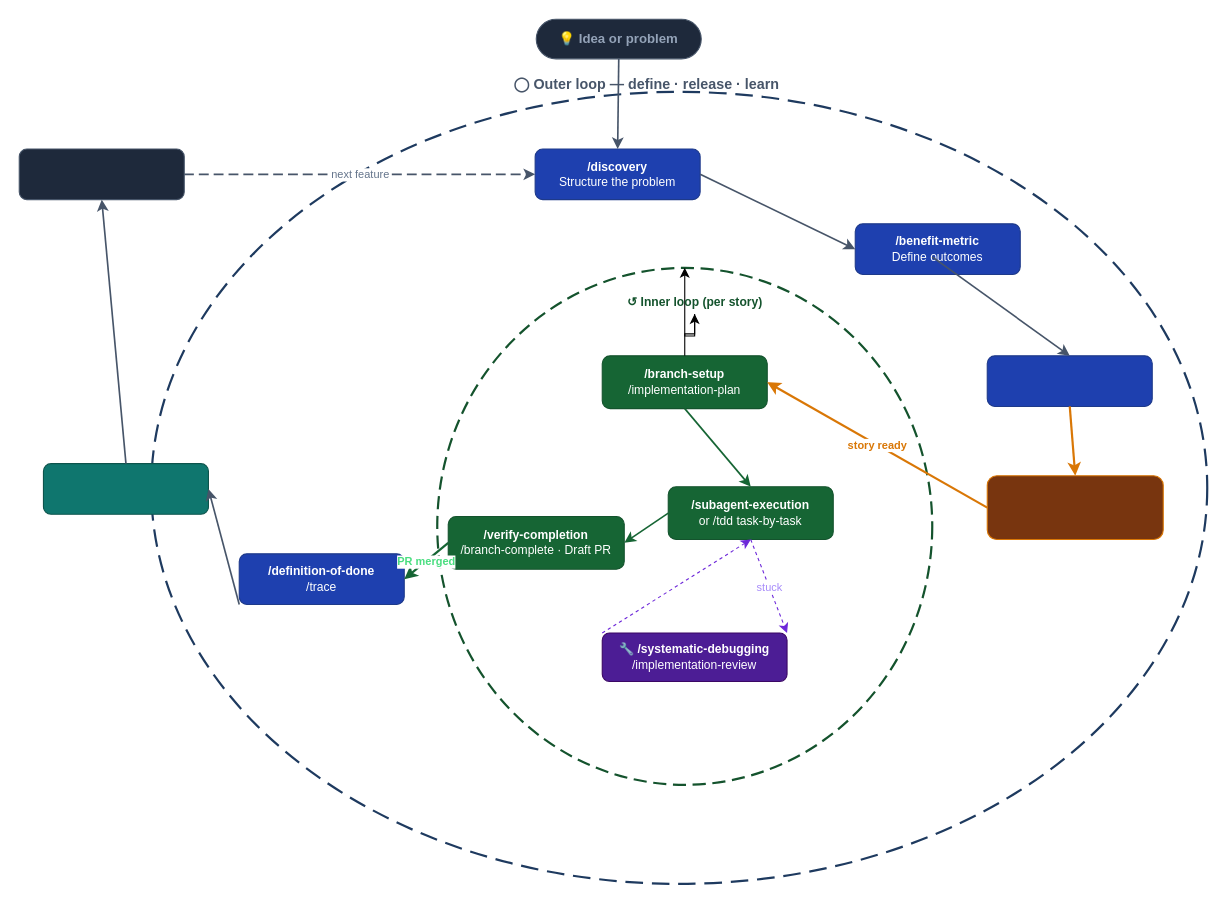
The diagram is 1228 pixels wide and 904 high, and some of its shapes have lost their labels. Each missing label, with the centre of its shape:
"/definition Epics + stories" goes at pixel 1069 380.
"/release" goes at pixel 125 488.
"Quality gates /review · /test-plan /definition-of-ready" goes at pixel 1074 507.
"📊 Measure · learn next feature →" goes at pixel 101 174.
